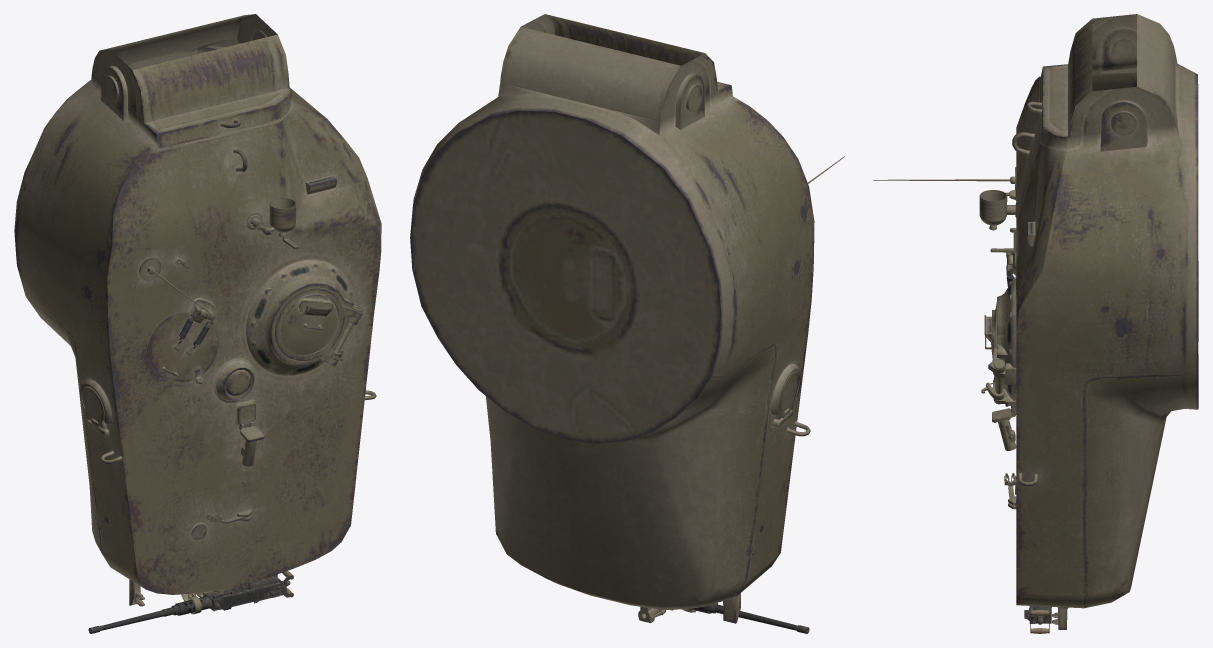
File: Turret_01.glb
3 views of the same model, side by side, from view 1: azimuth 30°, elevation 25°; view 2: azimuth 150°, elevation 25°; view 3: azimuth 270°, elevation 25° (orthographic). The views are drawn at different scales.
Visible parts, largest first — view 1: set_0_group_0; view 2: set_0_group_0; view 3: set_0_group_0.
Boxes of the visible parts, x1,y1,x2,y2 form: set_0_group_0: (14, 14, 381, 633); set_0_group_0: (410, 14, 844, 633); set_0_group_0: (873, 14, 1198, 633).
Bounding box in the file's own units: 2.43 × 4.28 × 2.27.
Materials: 1 (1 with a texture image).
